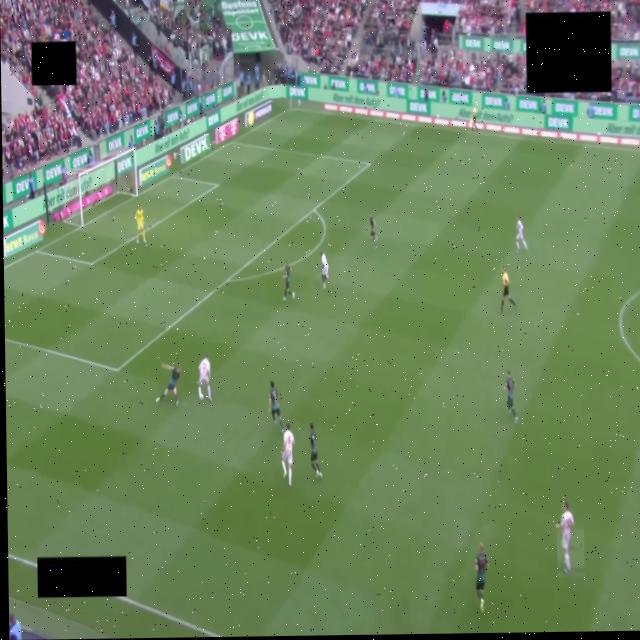player: (556, 503, 574, 573), (156, 365, 181, 405), (475, 543, 488, 611), (282, 424, 294, 486), (269, 381, 283, 432), (504, 371, 517, 422), (310, 423, 322, 477), (198, 357, 212, 401), (283, 261, 294, 301), (135, 206, 146, 243), (516, 216, 527, 252), (369, 213, 377, 248), (321, 251, 328, 289)
referee: (499, 267, 515, 313)
